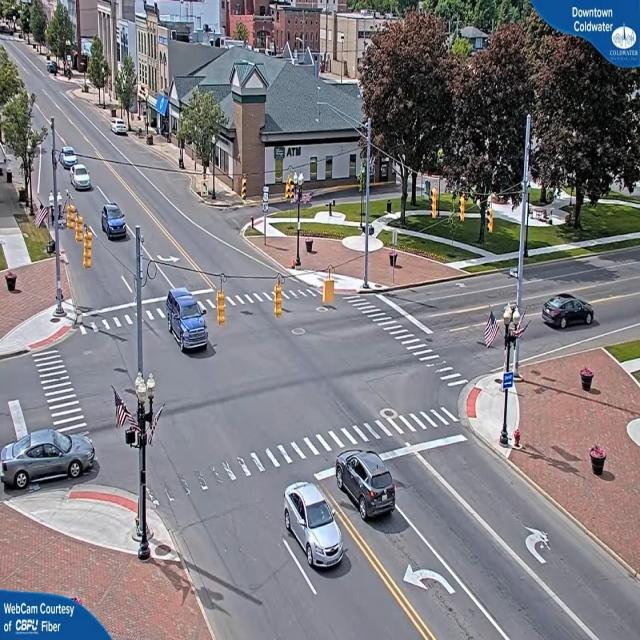car: (3, 421, 98, 489), (284, 481, 346, 572), (334, 452, 398, 522), (543, 293, 598, 330), (102, 205, 130, 239), (70, 165, 92, 190), (59, 148, 77, 170), (112, 119, 130, 136)
truck: (166, 291, 211, 353)
